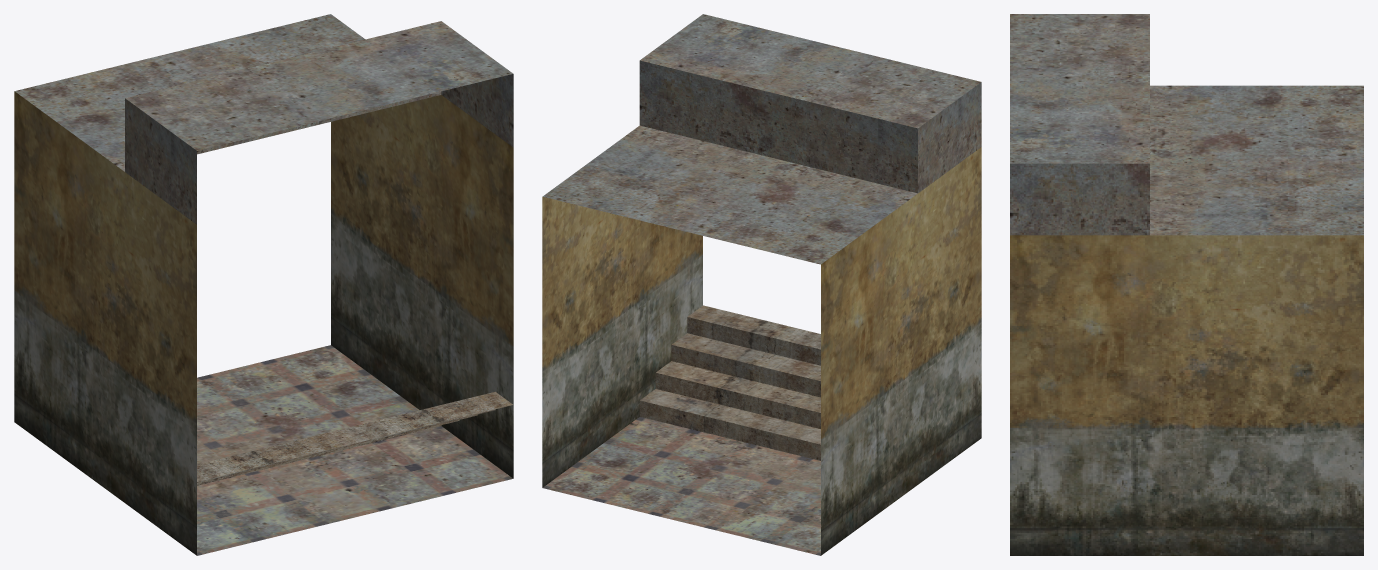
The model's file is _Corridor_part27.FBX.
The picture shows the model from 3 angles, left to right: view 1: azimuth 30°, elevation 25°; view 2: azimuth 150°, elevation 25°; view 3: azimuth 270°, elevation 25°; orthographic projection. The views are drawn at different scales.
Visible parts, largest first — view 1: Corridor_Part27; view 2: Corridor_Part27; view 3: Corridor_Part27.
Boxes of the visible parts, x1,y1,x2,y2 form: Corridor_Part27: (14, 14, 513, 555); Corridor_Part27: (542, 14, 981, 555); Corridor_Part27: (1010, 14, 1363, 555).
Bounding box in the file's own units: 645 × 789 × 645.
4 materials, 4 textured.
